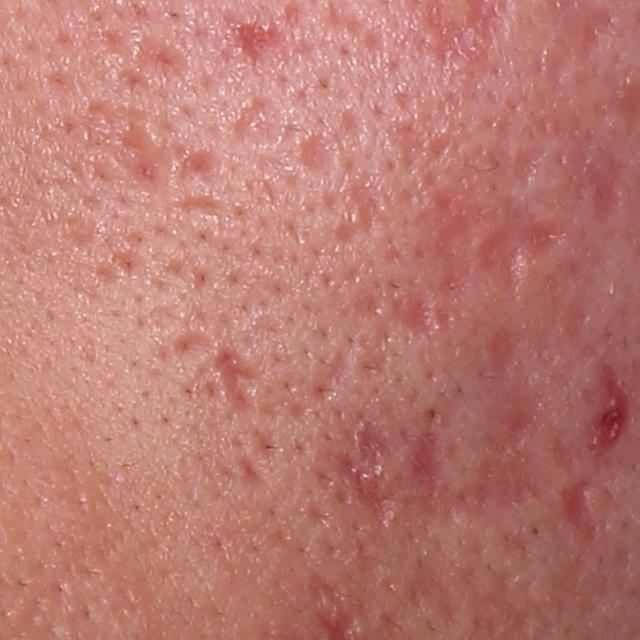atrophic_scar: (342, 381, 555, 531), (418, 190, 569, 307), (575, 359, 638, 477), (550, 540, 614, 621), (123, 125, 183, 199), (127, 22, 194, 88), (352, 291, 397, 386), (385, 284, 459, 337), (514, 111, 562, 190), (412, 559, 463, 629), (332, 179, 386, 243), (383, 119, 454, 167), (582, 149, 625, 228), (237, 13, 288, 76), (214, 348, 258, 417), (295, 129, 344, 186), (556, 478, 600, 540), (481, 322, 525, 374), (234, 446, 275, 500), (308, 572, 355, 615), (172, 330, 222, 365), (173, 187, 233, 216), (173, 145, 224, 177)
